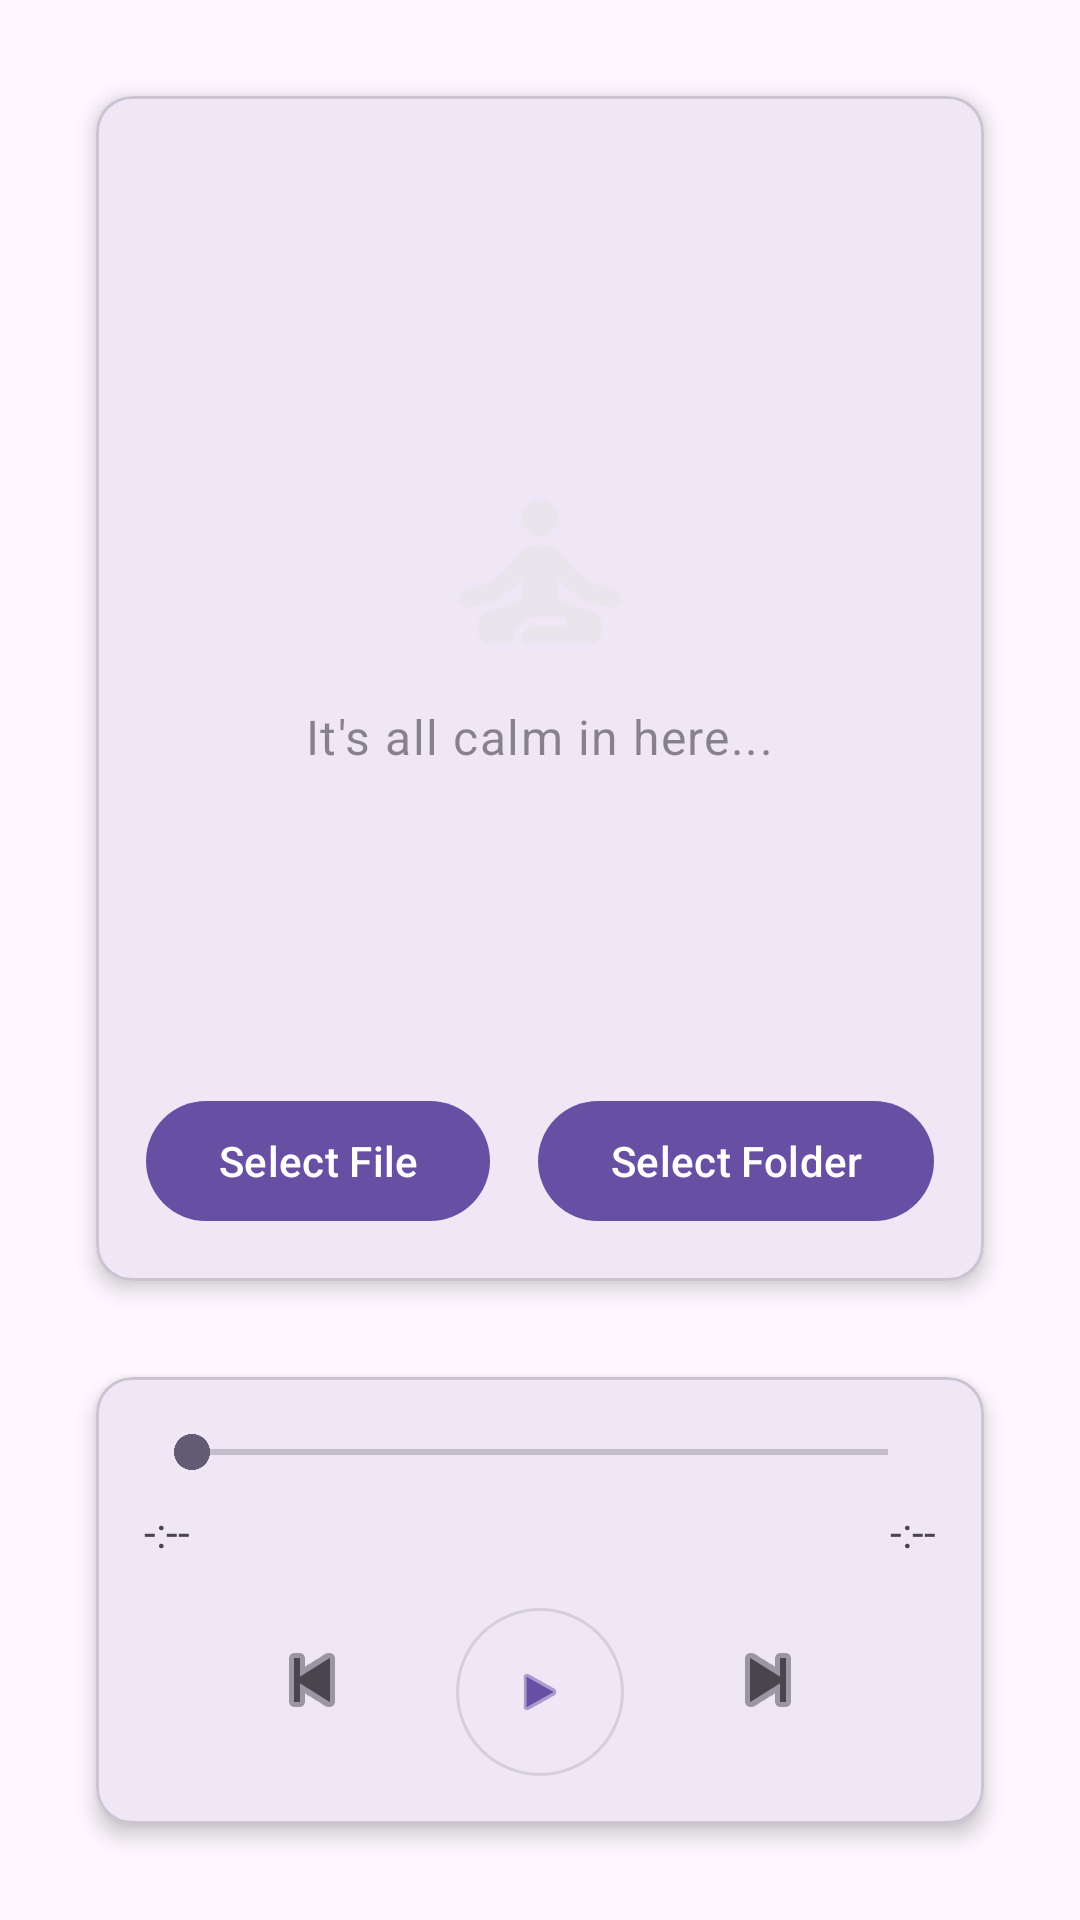

Icon bounding boxes for this 1080w x 1920h phone screenshot, format (x1, y1, x2, y2):
Next: (745, 1653, 791, 1707)
play: (456, 1608, 624, 1776)
Previous: (289, 1653, 335, 1707)
